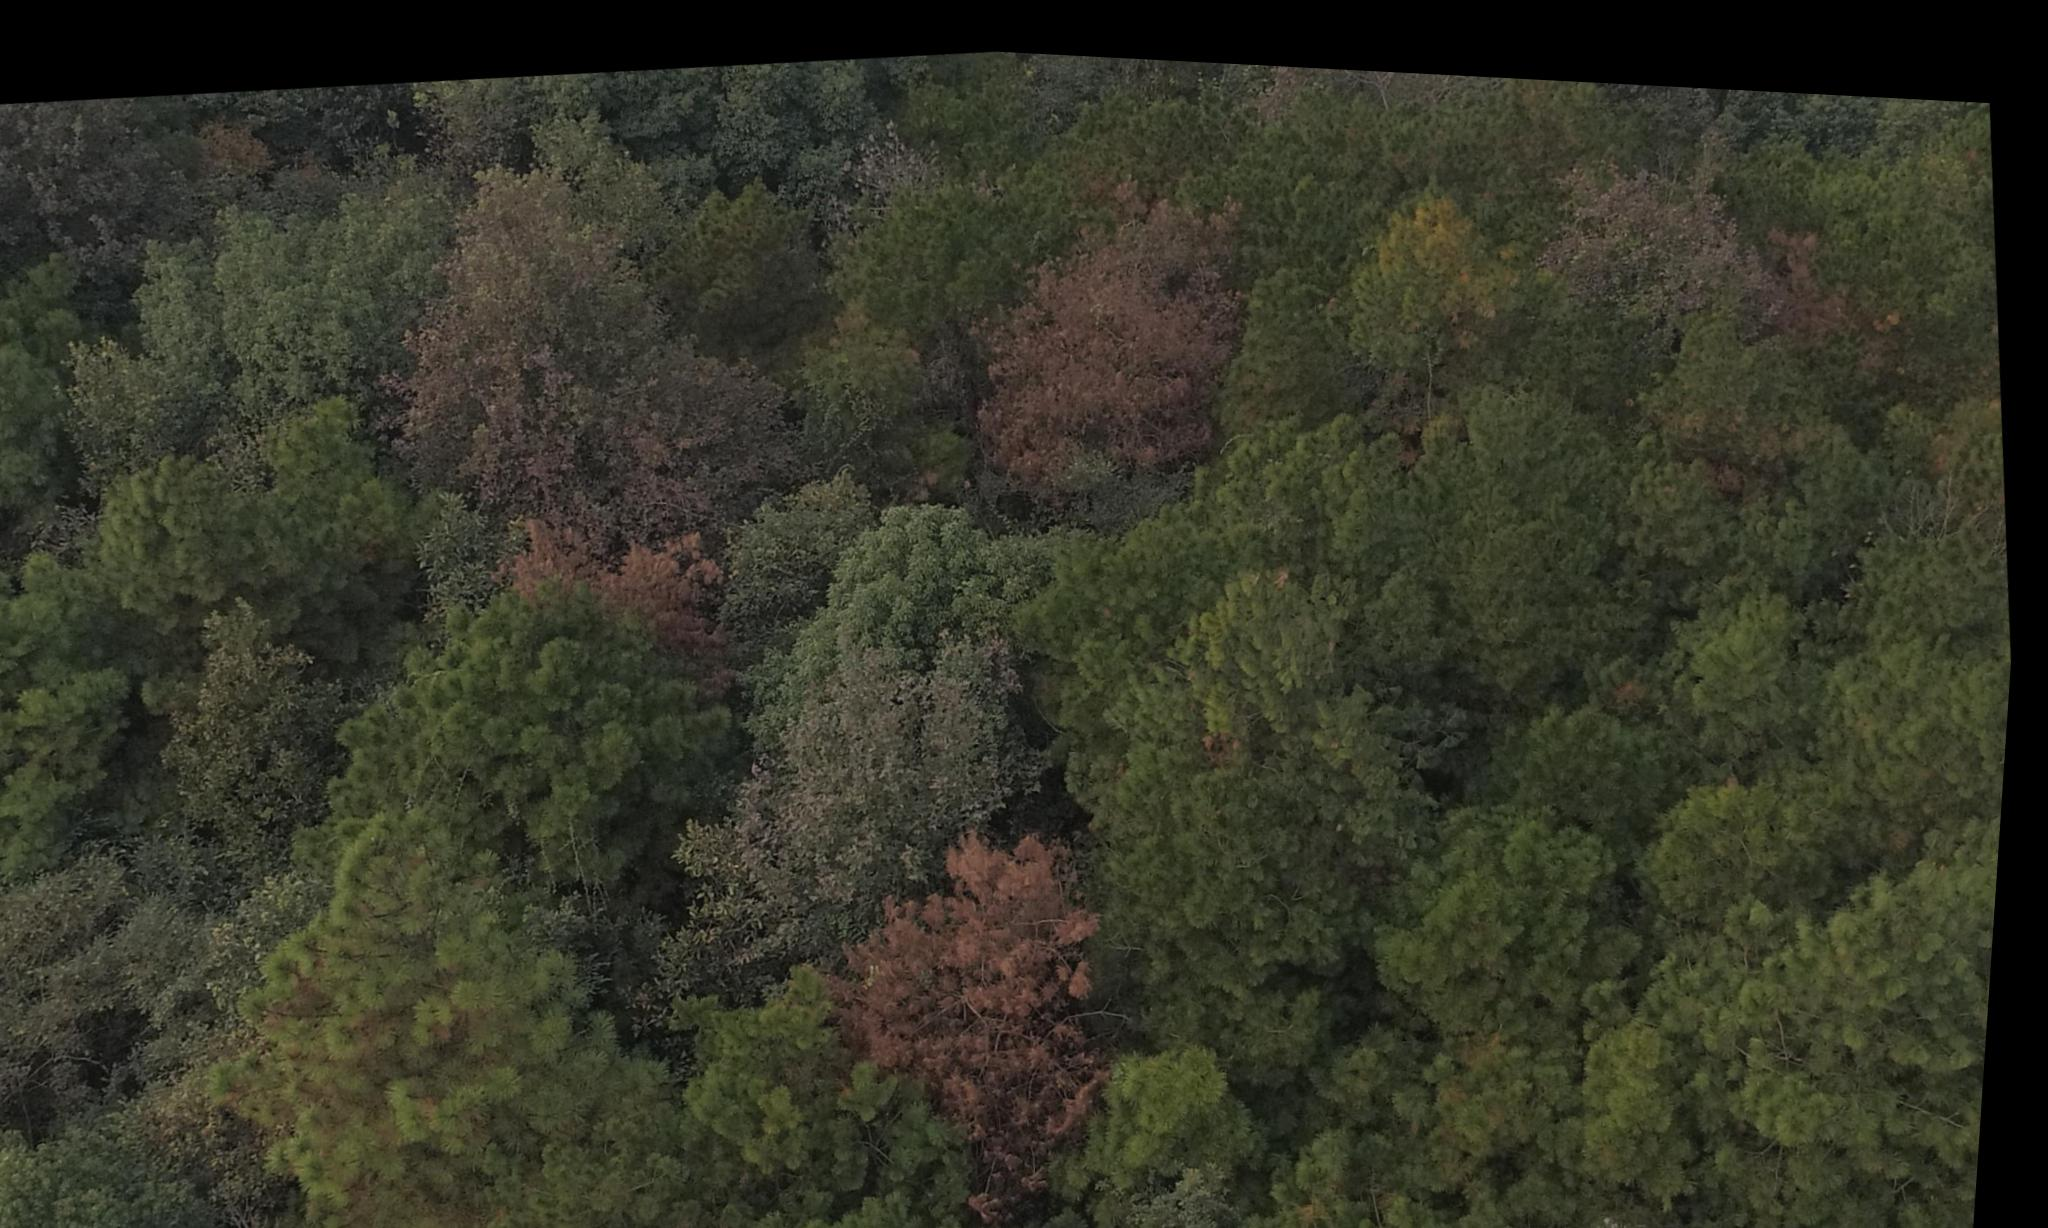heavy: (832, 808, 1137, 1193), (963, 190, 1260, 485), (512, 507, 731, 675)
